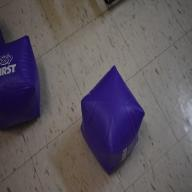cube: (80, 64, 145, 176), (0, 34, 41, 130), (0, 26, 5, 45)
